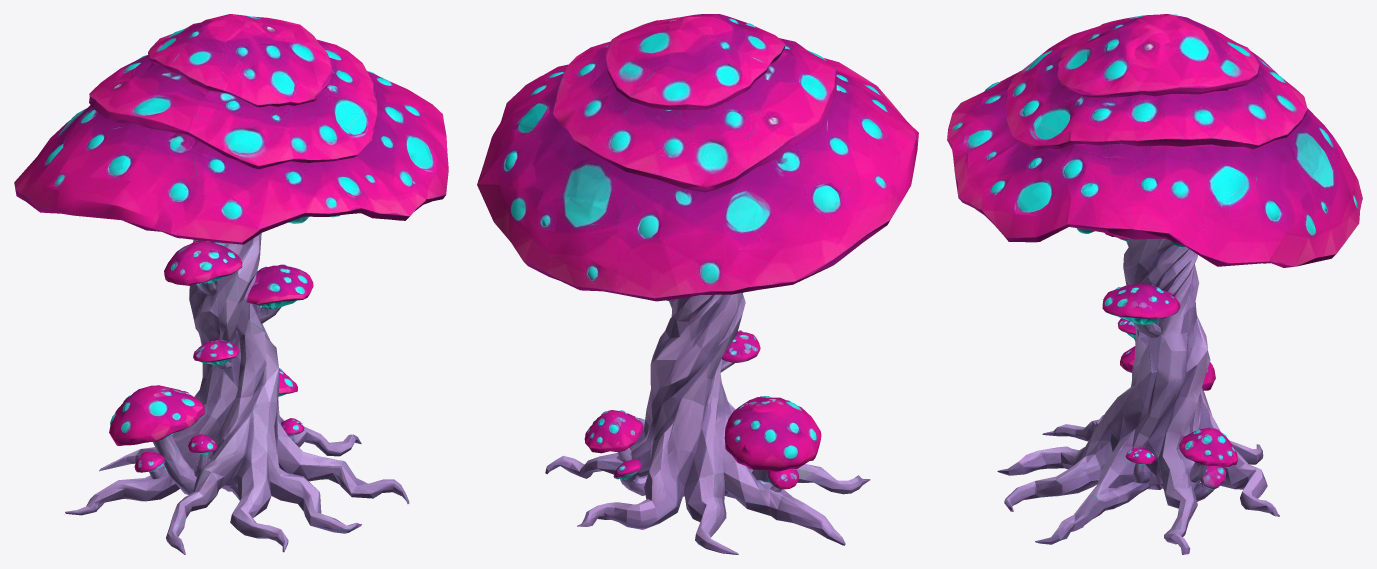
File: mother_mushroom.glb
3 renders of one model, left to right at view 1: azimuth 30°, elevation 25°; view 2: azimuth 150°, elevation 25°; view 3: azimuth 270°, elevation 25°, orthographic. The views are drawn at different scales.
Size of the model in its own units: 1.61 by 1.9 by 1.54.
Materials: 1 (1 with a texture image).
